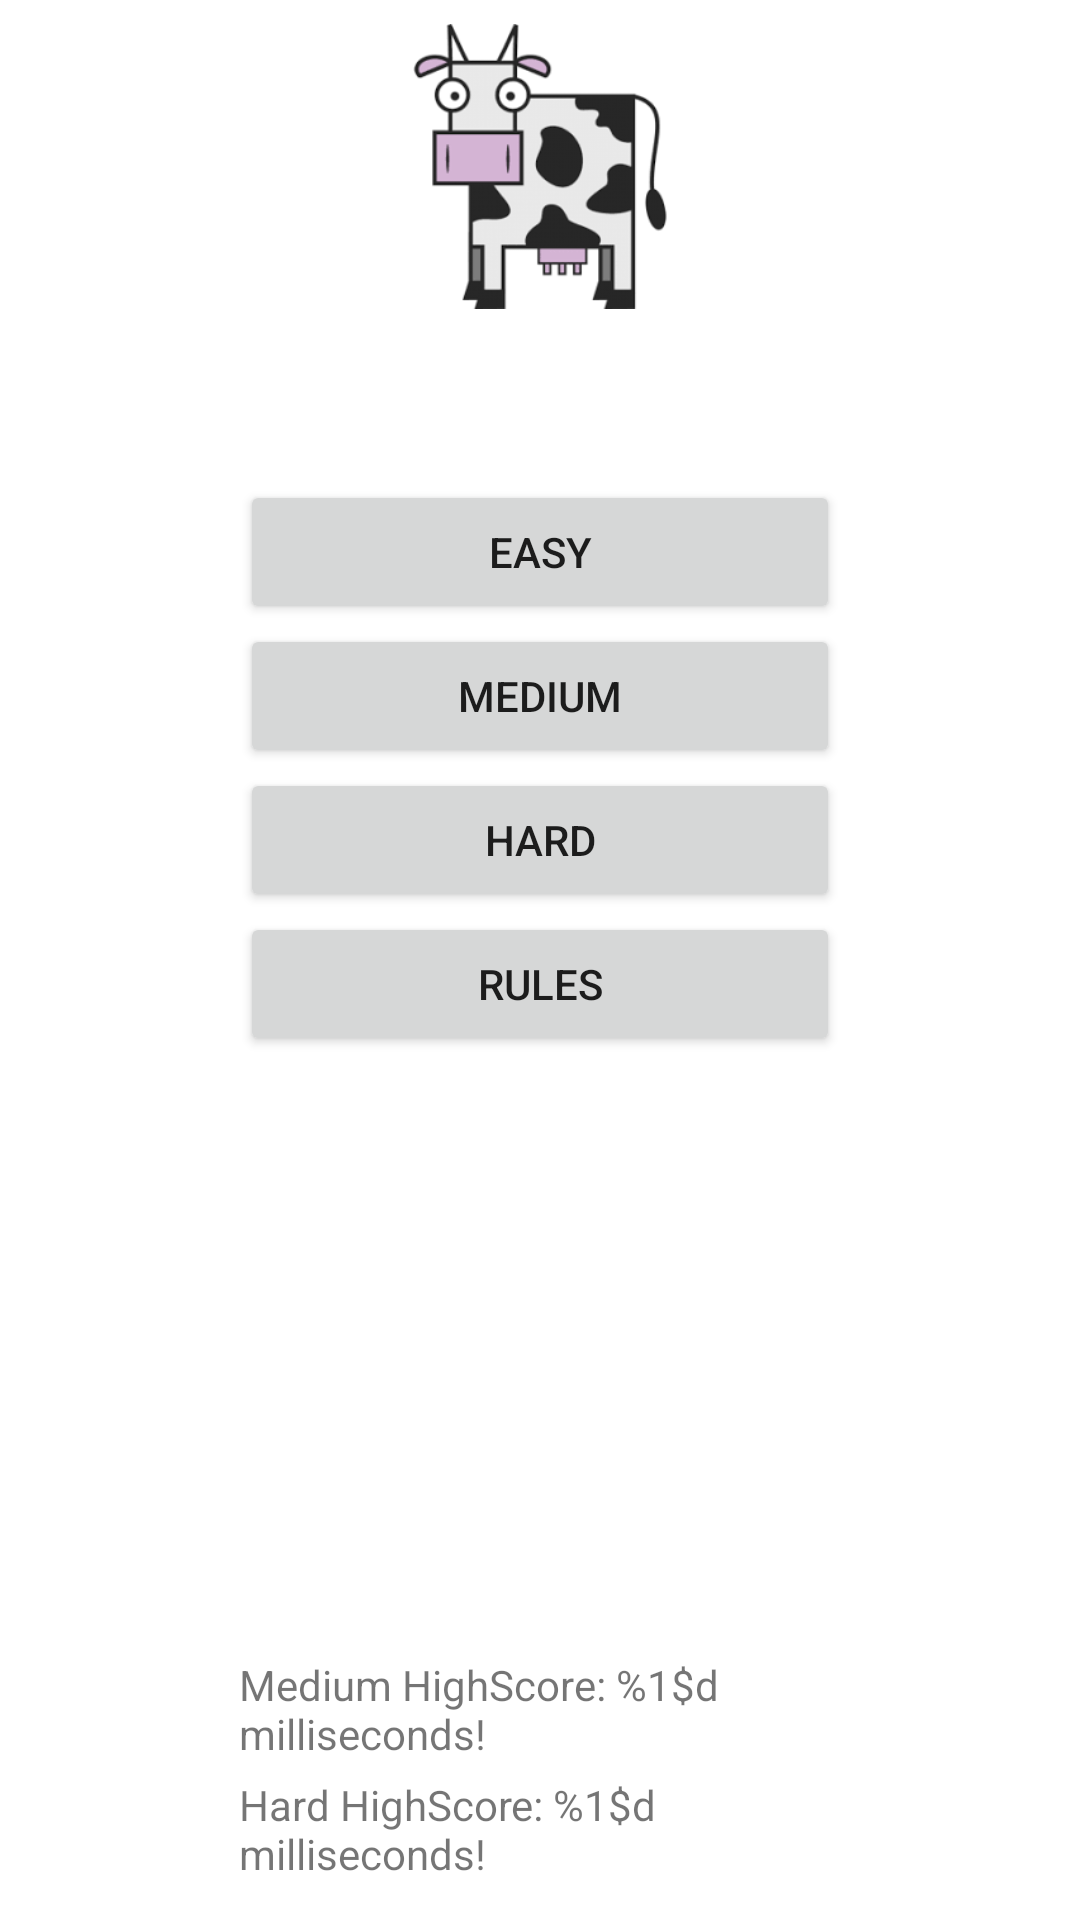

Screen size 1080px×1920px. Icon name, then its box in pixels as (x1, y1, x2, y2):
cow: (413, 24, 667, 309)
